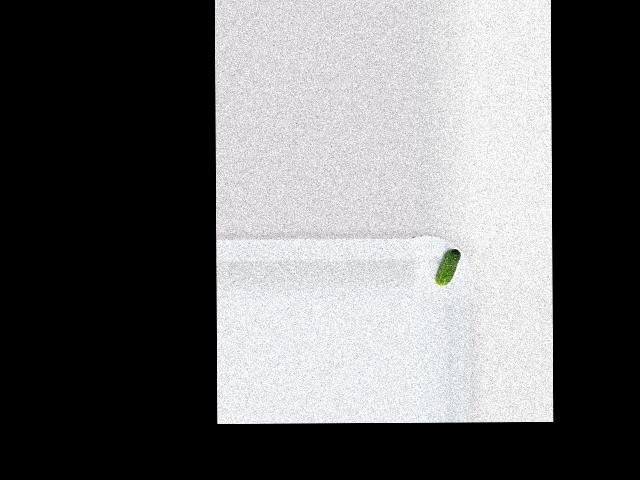cucumber: (434, 249, 460, 285)
